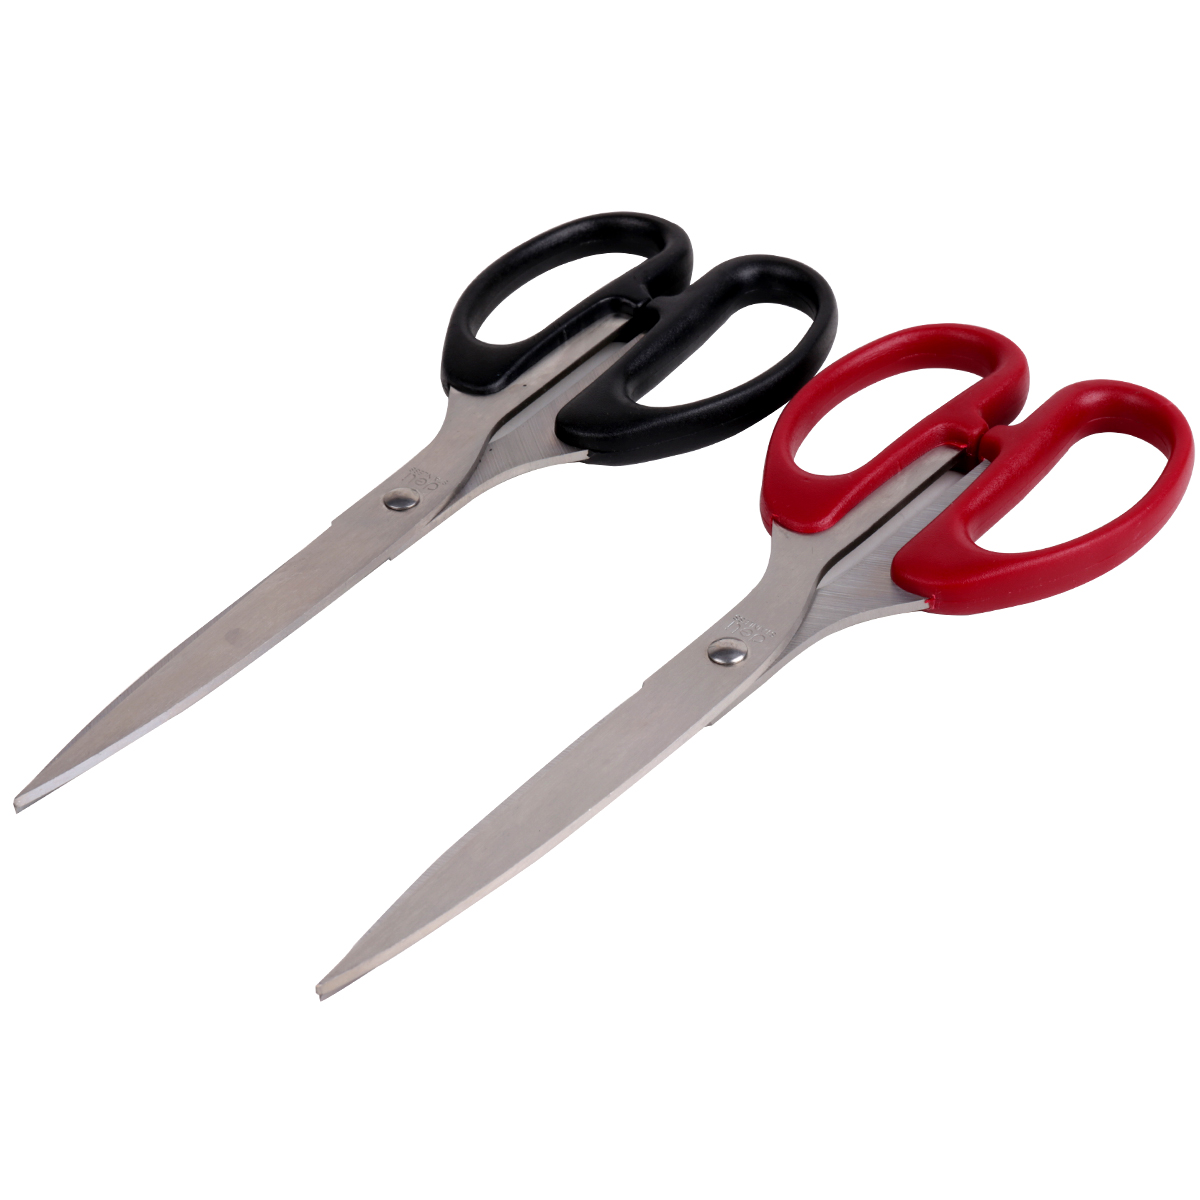scissors: (298, 307, 1198, 1027), (9, 204, 841, 822)
